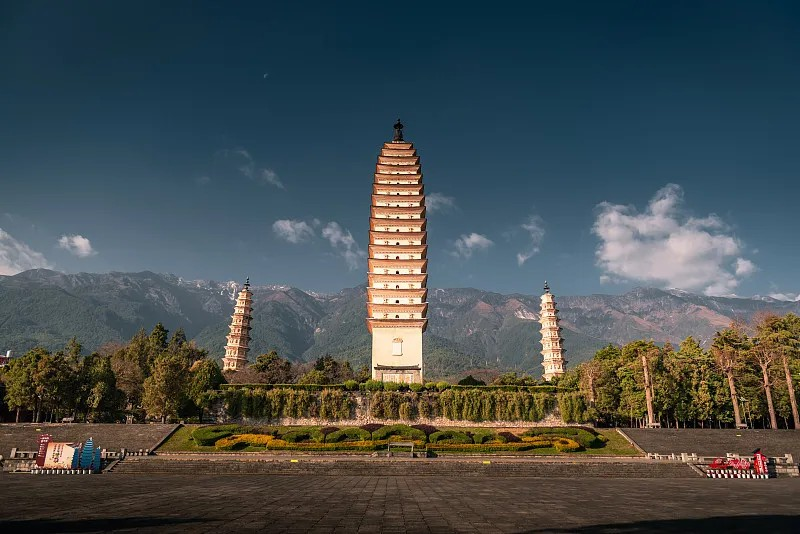ThreePagoda: (366, 118, 428, 381)
